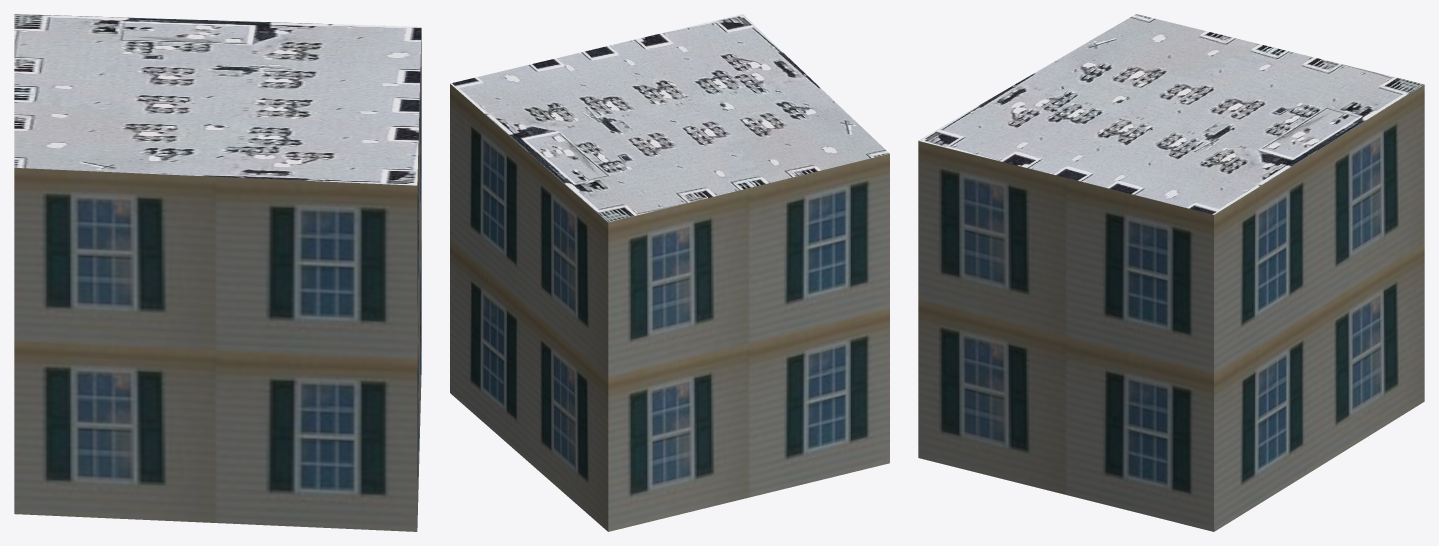
File: ResTex__5087.fbx
3 renders of one model, left to right at view 1: azimuth 30°, elevation 25°; view 2: azimuth 150°, elevation 25°; view 3: azimuth 270°, elevation 25°, orthographic. The views are drawn at different scales.
Parts seen in each view (by area): view 1: CityEngineMaterial_7_m, CityEngineMaterial_m; view 2: CityEngineMaterial_7_m, CityEngineMaterial_m; view 3: CityEngineMaterial_7_m, CityEngineMaterial_m.
Part boxes in pixels (left/top/right/bottom): CityEngineMaterial_7_m: left=14, top=29, right=421, bottom=531; CityEngineMaterial_m: left=14, top=14, right=421, bottom=185; CityEngineMaterial_7_m: left=450, top=84, right=889, bottom=531; CityEngineMaterial_m: left=450, top=14, right=889, bottom=222; CityEngineMaterial_7_m: left=918, top=84, right=1424, bottom=531; CityEngineMaterial_m: left=918, top=14, right=1424, bottom=214.
Size of the model in its own units: 8.15 by 6 by 8.69.
Materials: 2 (2 with a texture image).
